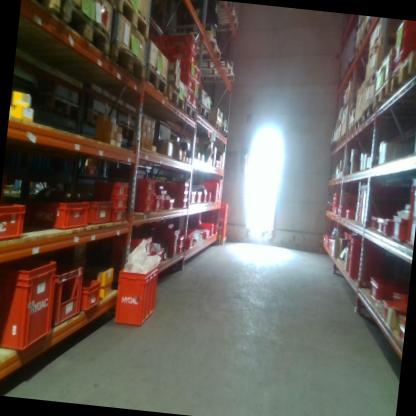pallet: (54, 0, 116, 64), (100, 43, 146, 85), (107, 0, 152, 38), (388, 45, 416, 101), (134, 61, 171, 98), (367, 31, 399, 66), (160, 81, 188, 115), (372, 79, 390, 117), (21, 0, 62, 15), (192, 118, 223, 135), (363, 68, 382, 94), (194, 99, 211, 123), (351, 35, 366, 62), (363, 16, 379, 37), (180, 106, 197, 123), (364, 102, 376, 126), (352, 116, 363, 140), (344, 123, 353, 144), (218, 236, 227, 247), (221, 130, 228, 139)
small_load_carrier: (0, 251, 60, 360), (112, 261, 161, 329), (27, 194, 90, 236), (50, 261, 85, 330), (346, 235, 378, 284), (0, 196, 31, 245), (151, 225, 180, 264), (359, 185, 384, 226), (403, 177, 416, 244), (79, 200, 109, 229), (166, 28, 200, 51), (79, 280, 100, 313), (92, 178, 130, 196), (164, 57, 196, 76), (390, 221, 413, 241), (165, 48, 198, 61), (107, 194, 129, 213), (190, 63, 201, 99), (106, 210, 126, 225), (133, 203, 153, 218), (134, 191, 155, 205), (133, 181, 156, 192), (169, 180, 190, 192), (178, 75, 195, 89), (177, 87, 190, 105), (383, 215, 392, 236), (174, 190, 189, 201), (369, 214, 379, 229), (164, 199, 175, 212), (174, 199, 187, 209), (219, 204, 228, 217), (376, 218, 384, 232), (189, 190, 197, 204), (217, 222, 227, 233), (218, 216, 228, 223), (216, 232, 225, 239)
